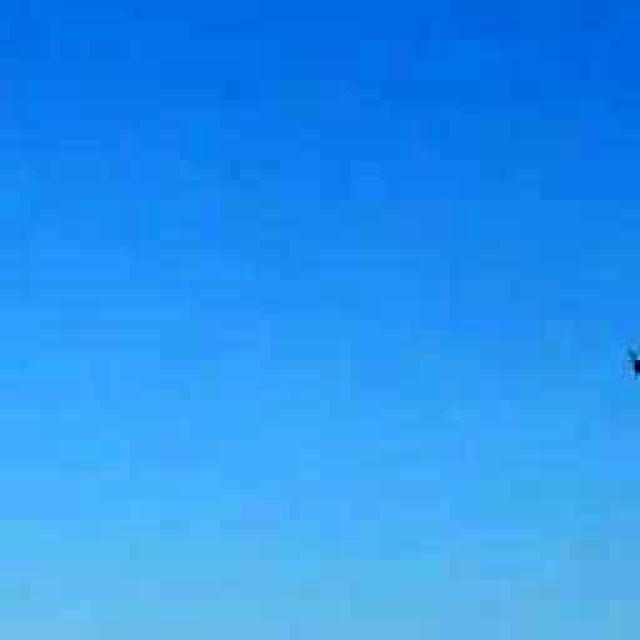bird: (602, 326, 640, 381)
